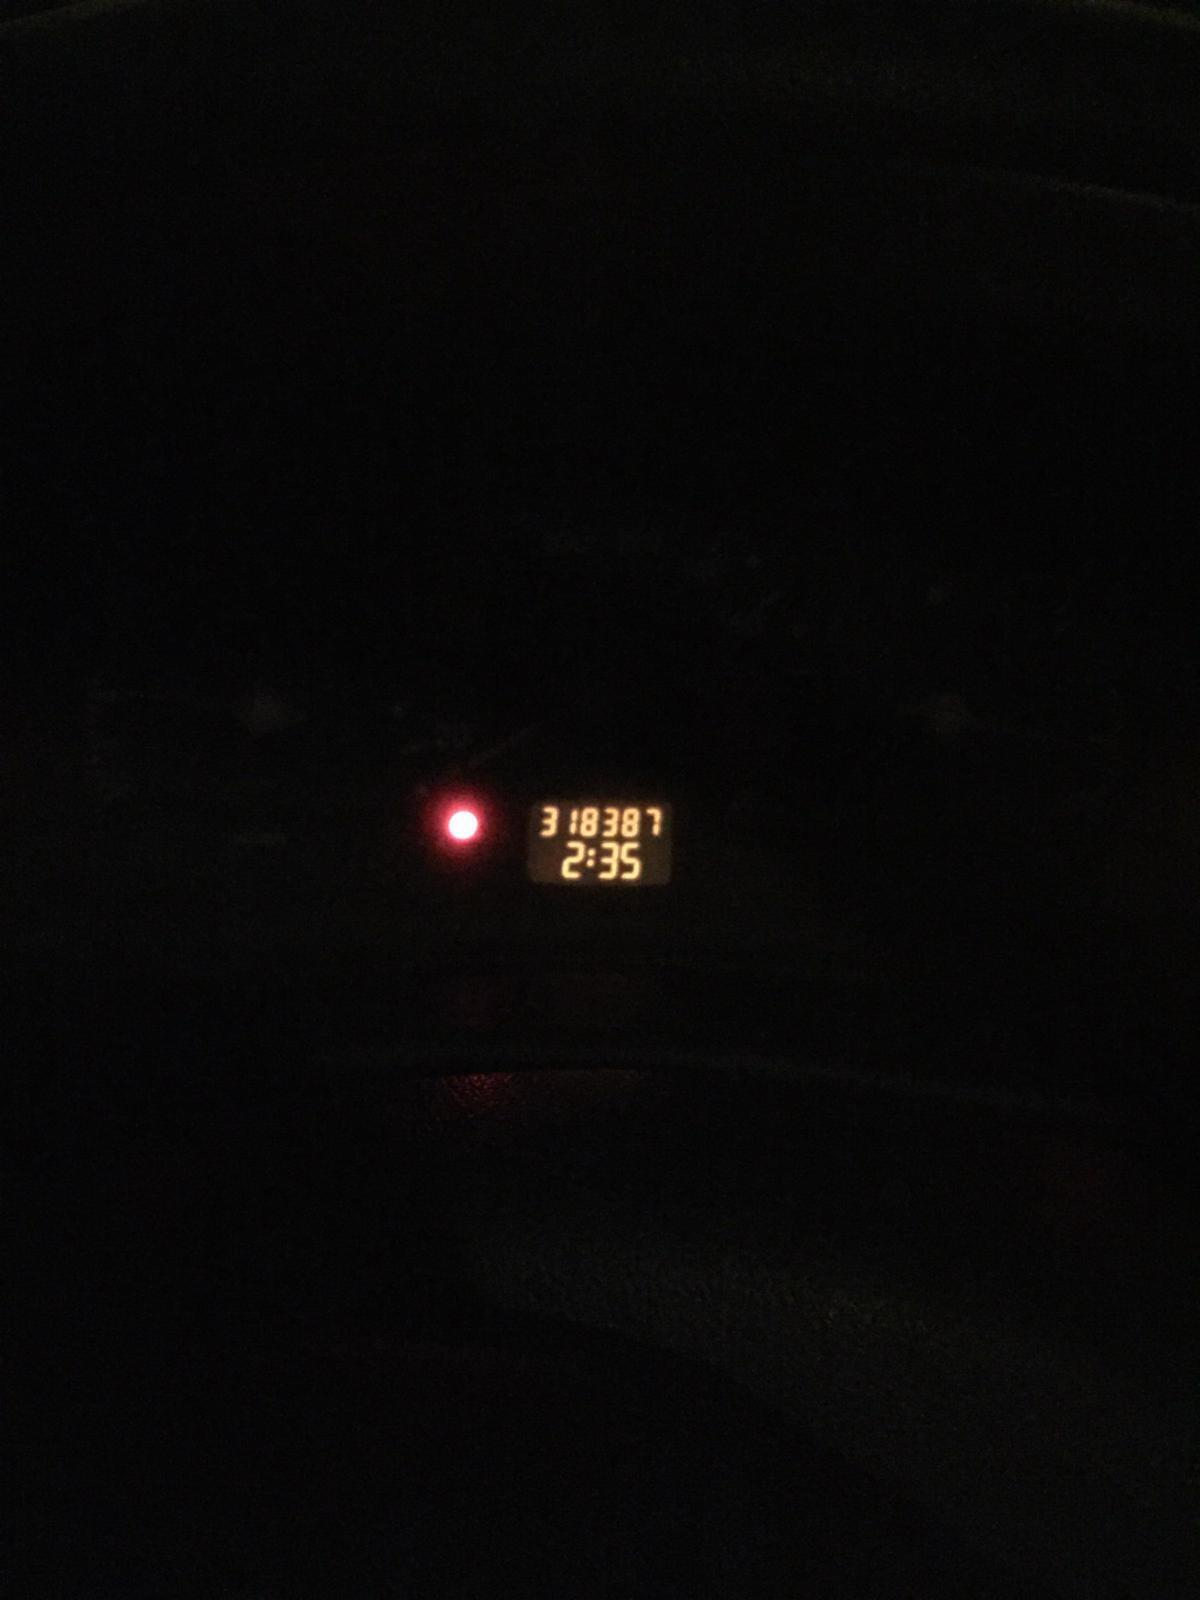1: (568, 808, 579, 835)
2: (560, 840, 585, 879)
3: (597, 840, 619, 879), (537, 805, 561, 839), (600, 805, 619, 837)
5: (620, 842, 642, 879)
7: (644, 806, 663, 837)
8: (620, 806, 642, 838), (579, 805, 600, 837)
X: (586, 847, 596, 868)
odometer: (524, 794, 677, 891)
